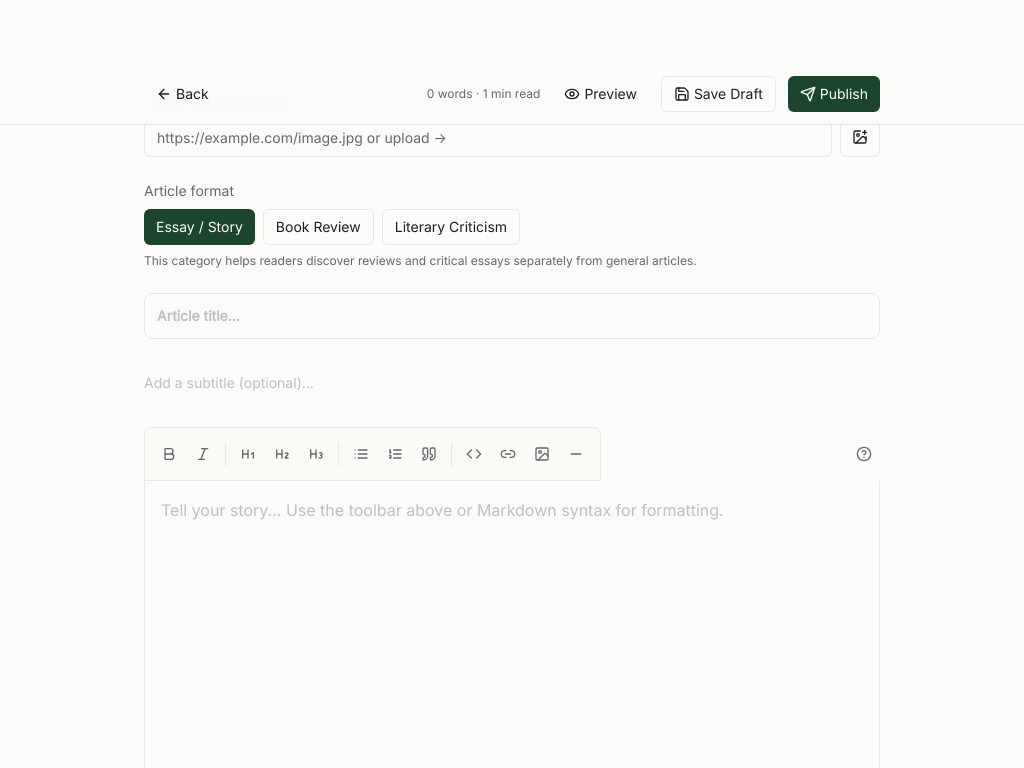
ArticleWrite › shows validation errors when title or content are too short
The image size is (1024, 768).
Step 1. Type "Hi" into the field with placeholder "Article title..." → (512, 316), box [144,293,880,339]
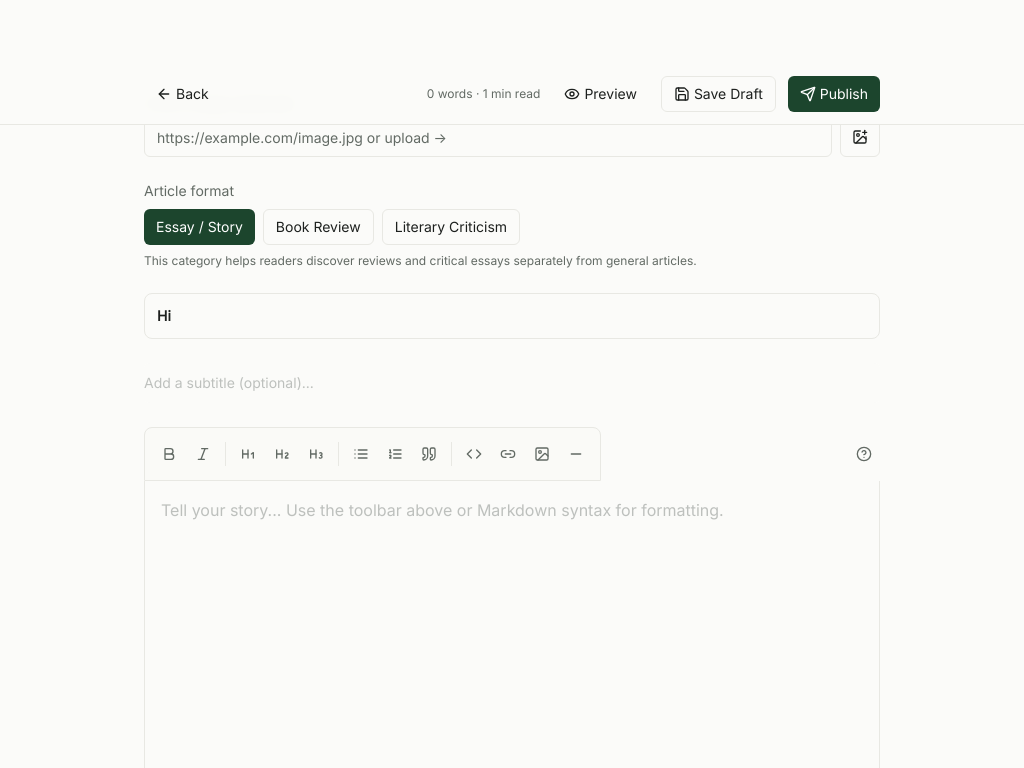
Step 2. Click the button "Publish" → (834, 94), box [788,76,880,112]
(page scrolled)
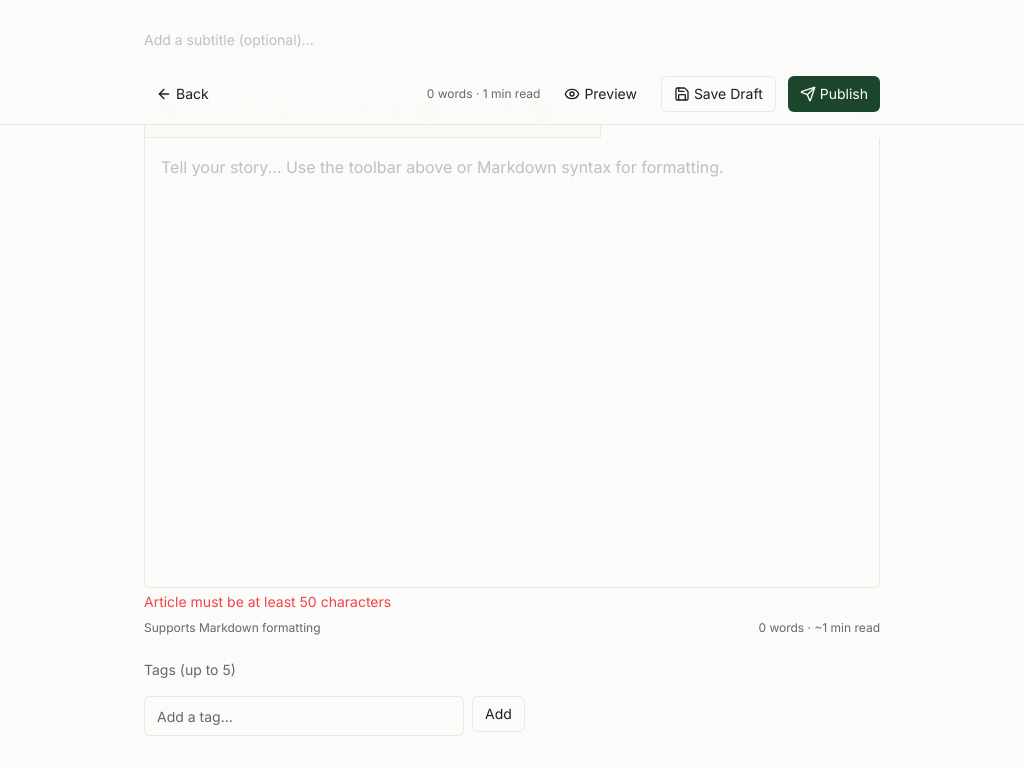
Check: the text "Article must be at least 50 characters" is shown, box [144,593,391,610]
